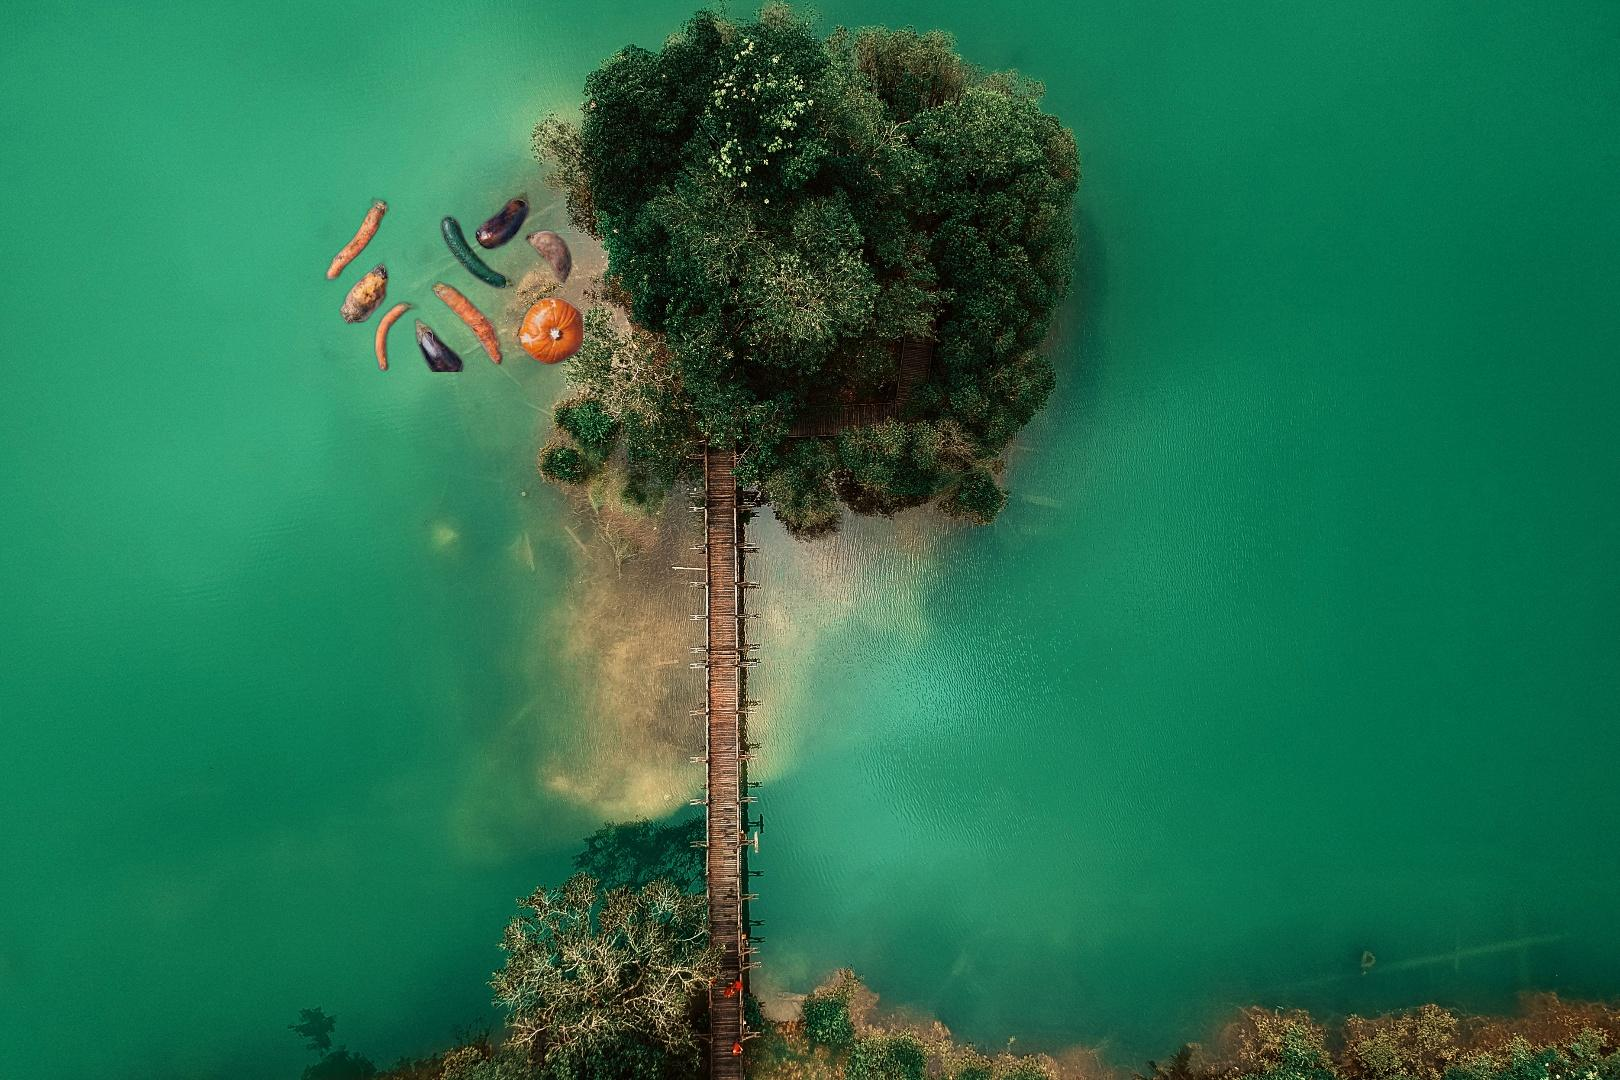biological: (309, 189, 583, 372)
